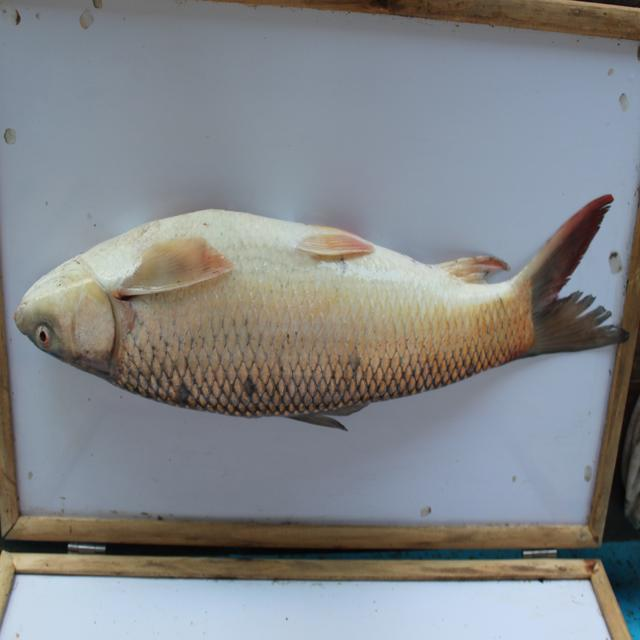Mori: (17, 196, 623, 445)
